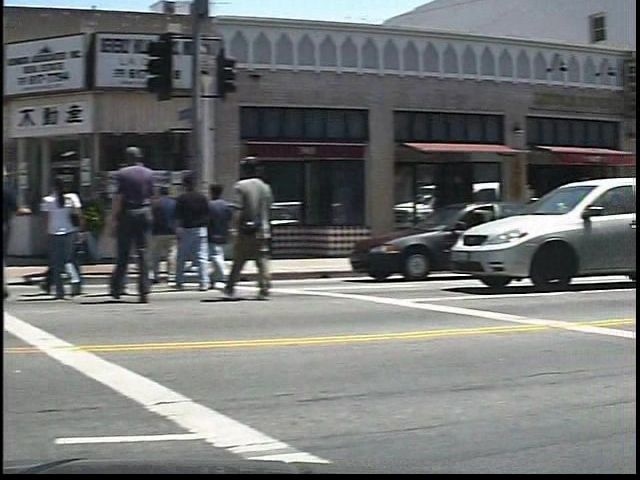person: (121, 148, 190, 313), (1, 163, 51, 317), (56, 175, 106, 307)
